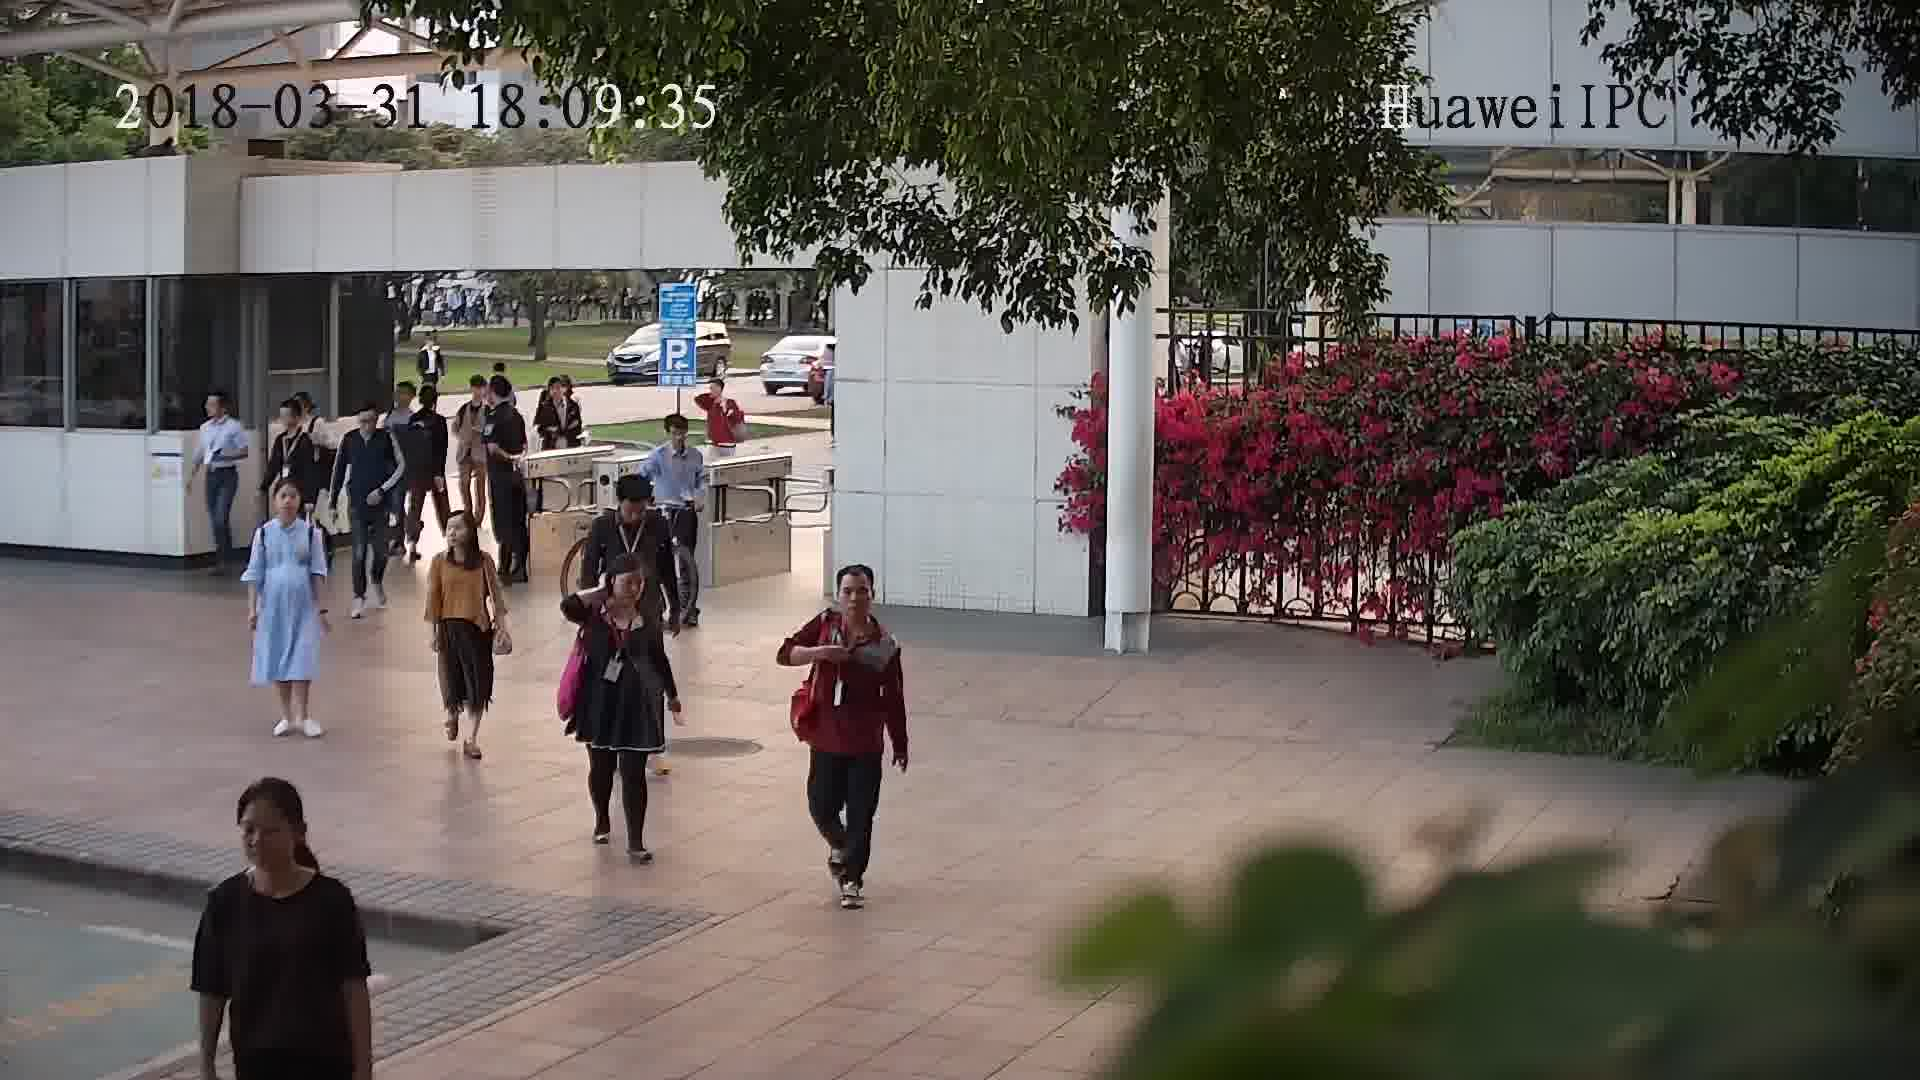face: (230, 795, 306, 871), (832, 572, 878, 617), (609, 566, 647, 603)
person: (203, 775, 357, 933), (804, 559, 899, 653), (577, 558, 665, 633), (591, 471, 673, 543), (251, 476, 326, 548), (432, 506, 498, 568), (646, 410, 706, 468), (343, 397, 397, 454), (199, 384, 247, 438), (267, 396, 312, 450), (451, 370, 493, 428), (377, 377, 421, 430), (486, 372, 526, 426), (408, 381, 450, 429), (537, 371, 583, 413), (697, 369, 744, 411), (416, 332, 445, 365)
